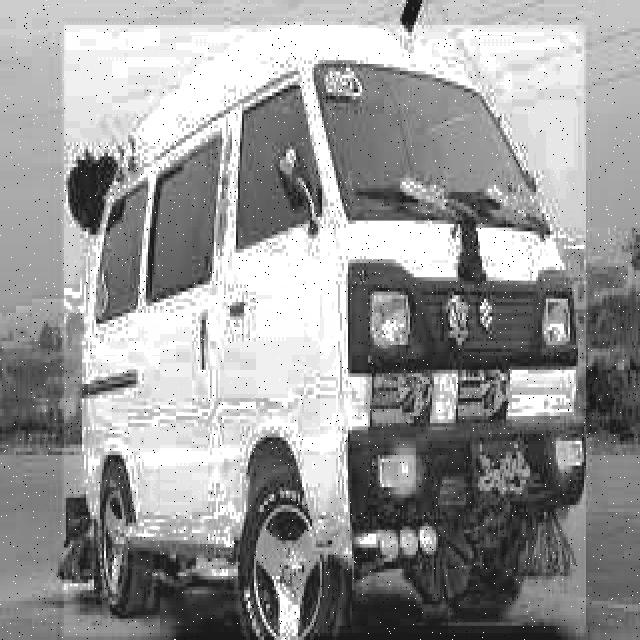LCV: (60, 25, 586, 636)
